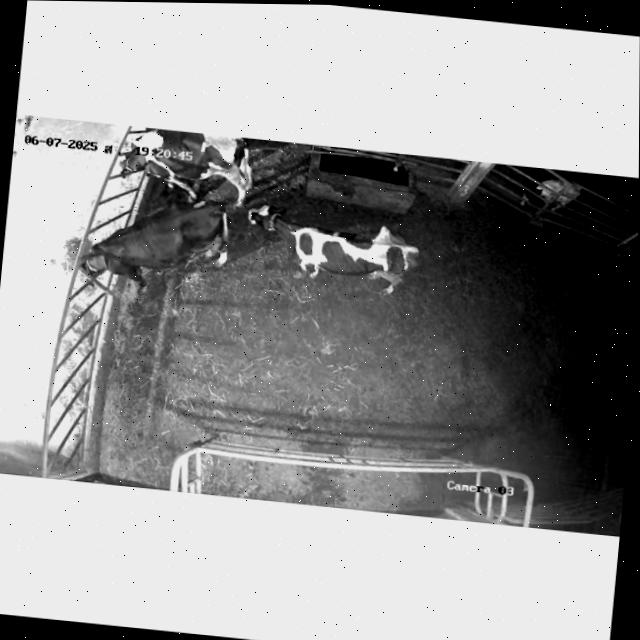stand: (236, 192, 436, 305)
